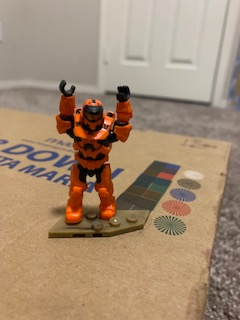spartan: (54, 78, 133, 224)
up: (53, 80, 133, 160)
